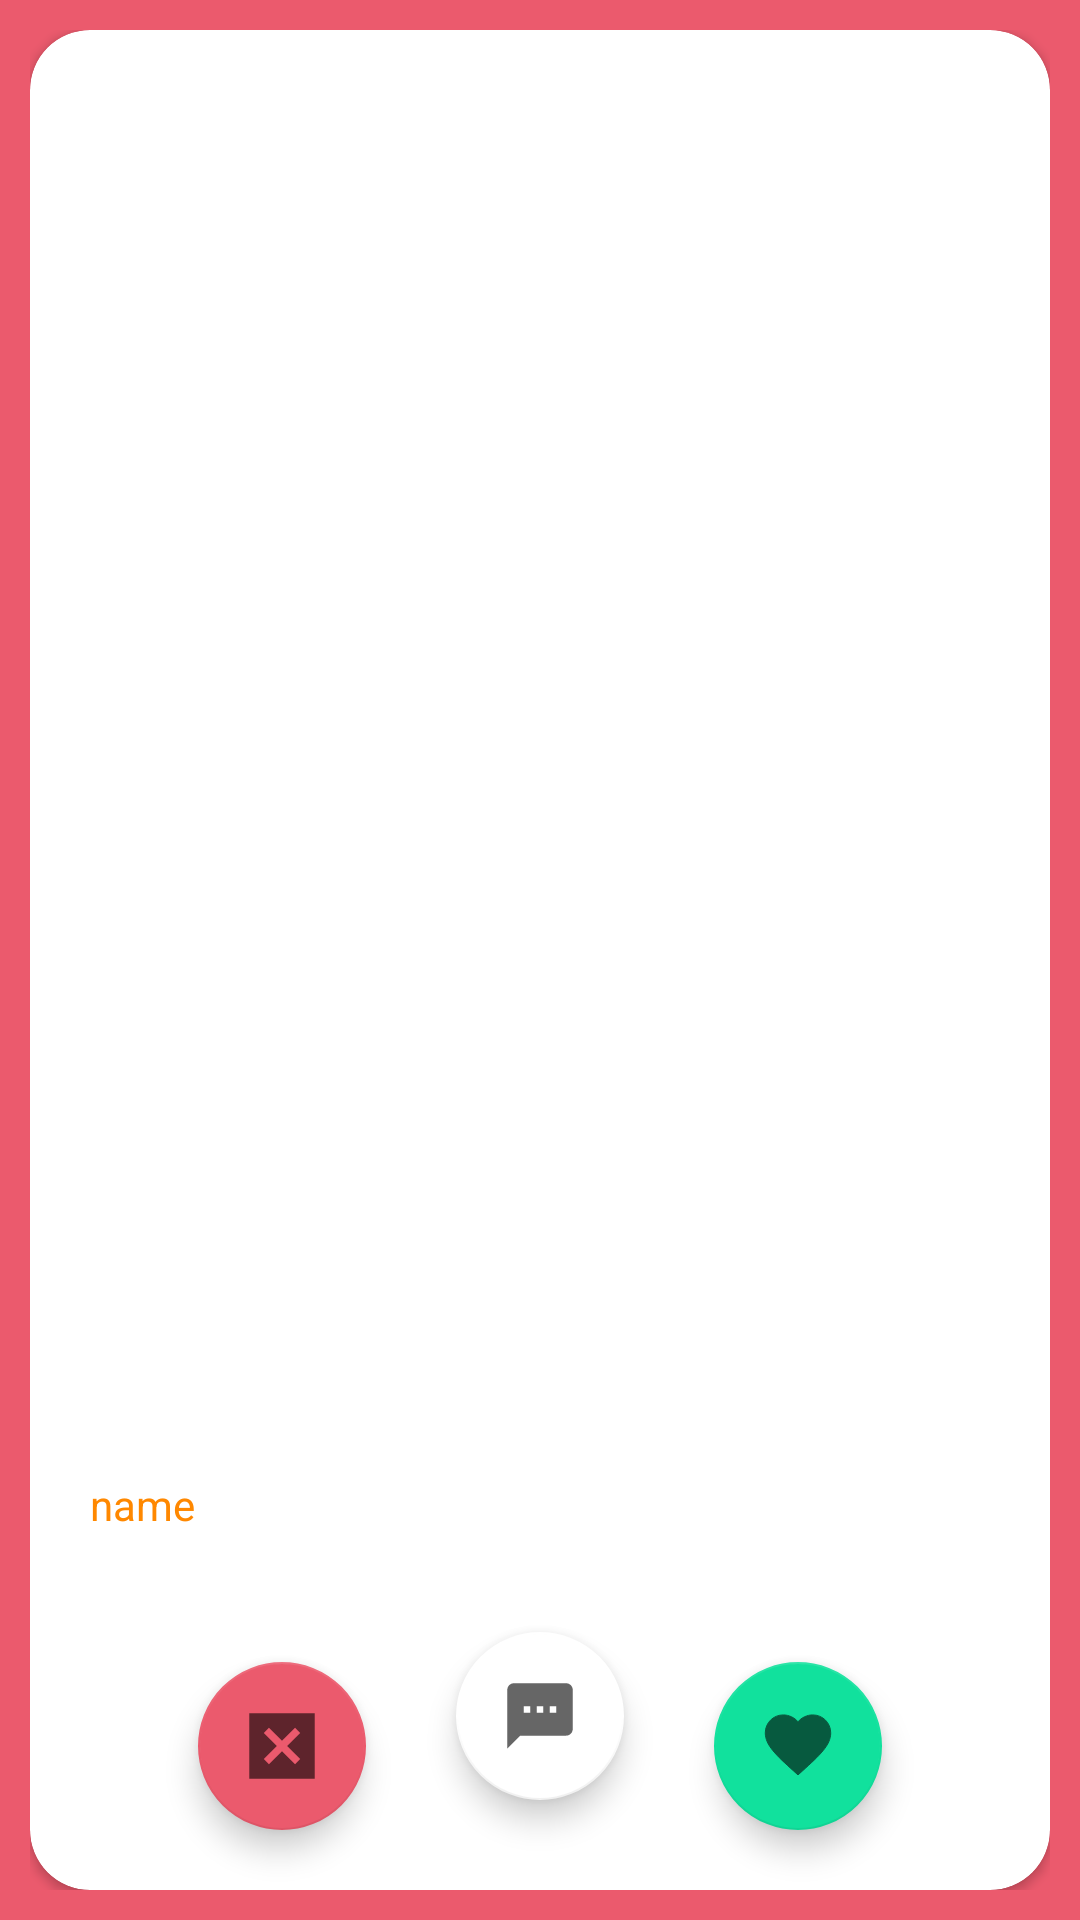

Where to tap for icons on this 1080 x 1920 app screen, as point (x, y):
chat: point (565, 1716)
